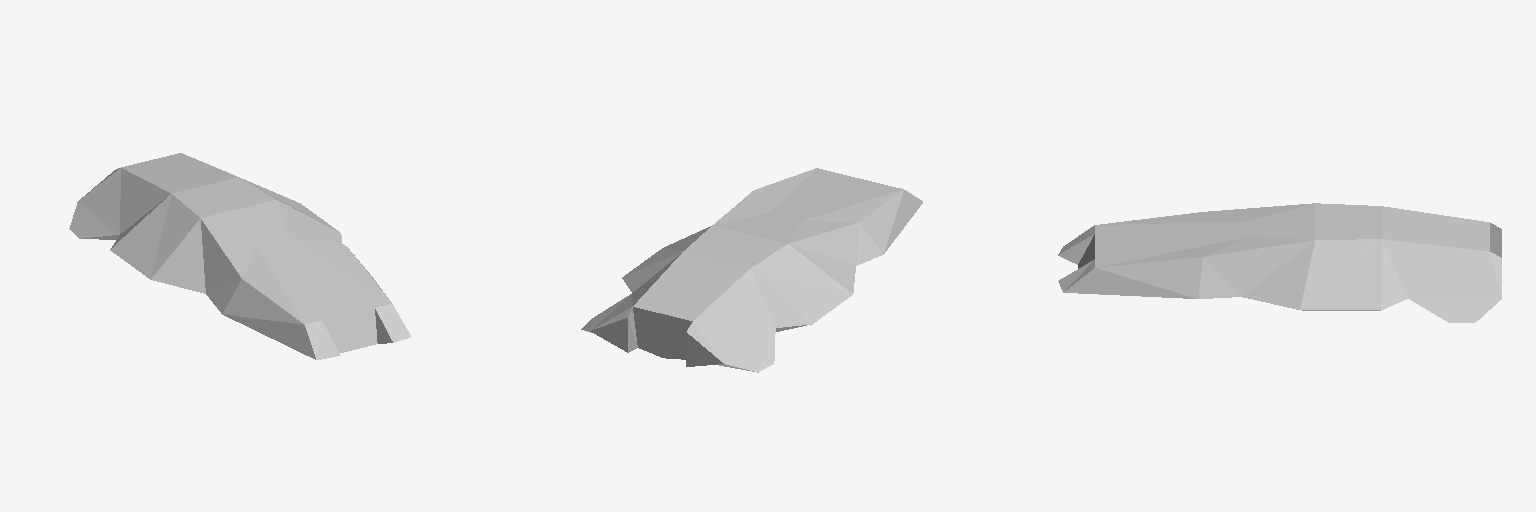
Rendered from LOD2-UVFlip.obj.
3 renders of one model, left to right at view 1: azimuth 30°, elevation 25°; view 2: azimuth 150°, elevation 25°; view 3: azimuth 270°, elevation 25°, orthographic.
Parts seen in each view (by area): view 1: FrontUVLOD2; view 2: FrontUVLOD2; view 3: FrontUVLOD2.
Boxes of the visible parts, <box> form: FrontUVLOD2: <box>69,153,410,359</box>; FrontUVLOD2: <box>581,168,922,372</box>; FrontUVLOD2: <box>1058,203,1501,322</box>.
Size of the model in its own units: 18.1 by 6.22 by 36.46.